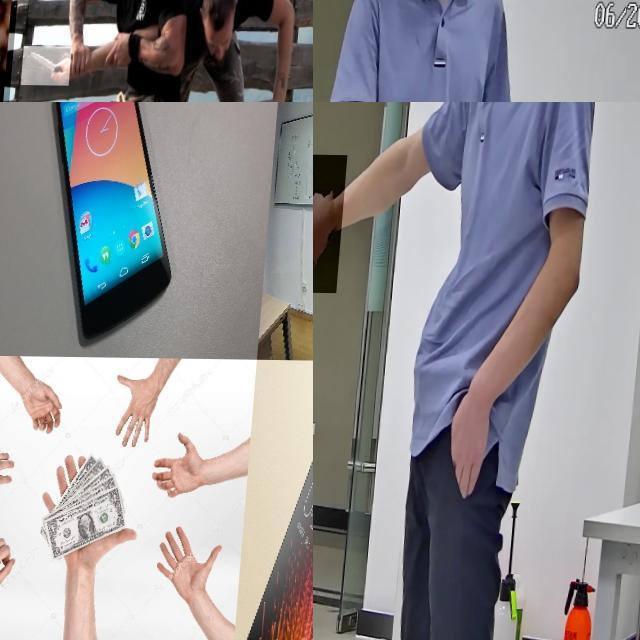-: (0, 0, 152, 102), (0, 0, 72, 102), (178, 0, 244, 70), (31, 44, 81, 84)
gun-knife-thesis - v11 Yolov5 augmented: (313, 153, 355, 292)
